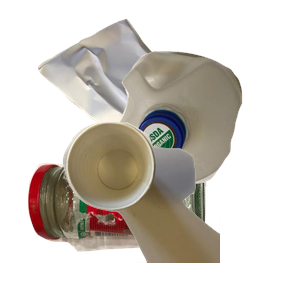glass: (25, 155, 227, 300)
paper: (35, 10, 237, 178)
plastic: (108, 49, 300, 226)
trash: (60, 120, 300, 300)
